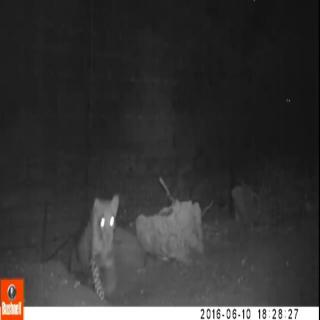Leopard: (72, 176, 132, 298)
